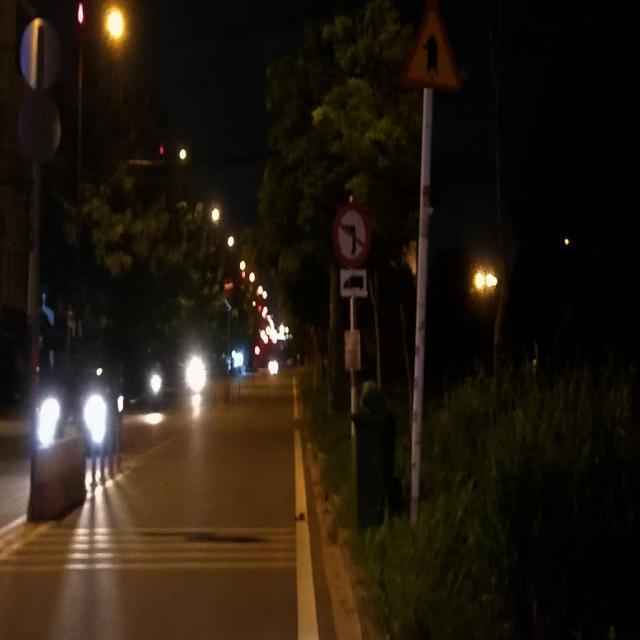102-cam-di-nguoc-chieu: (224, 275, 236, 295)
123a-cam-re-trai: (331, 202, 369, 268)
207-giao-nhau-voi-duong-khong-uu-tien: (397, 8, 463, 90)
302a-huong-phai-di-vong-chuong-ngai-vat-1: (222, 296, 234, 312)
